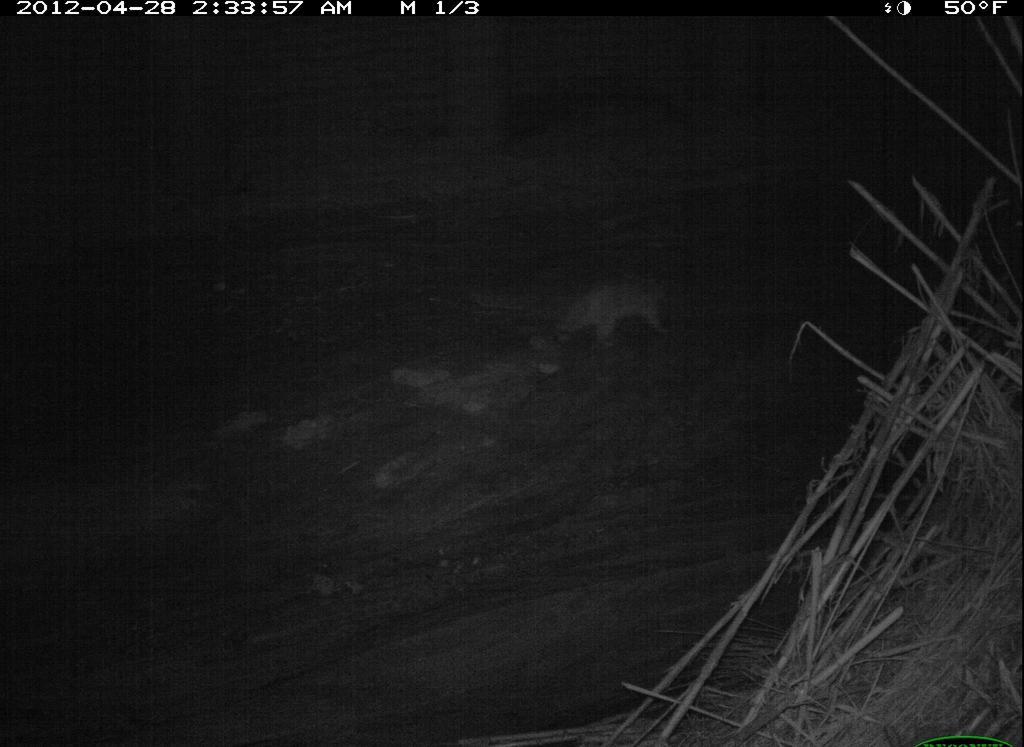raccoon: (536, 257, 684, 367)
